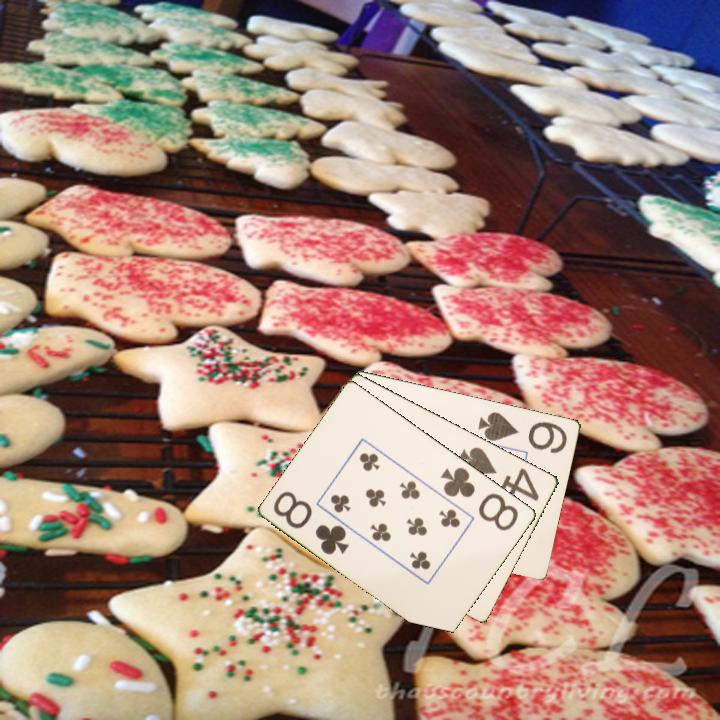4s: (455, 443, 542, 504)
6s: (475, 408, 570, 456)
8c: (437, 463, 522, 534), (270, 487, 353, 558)
